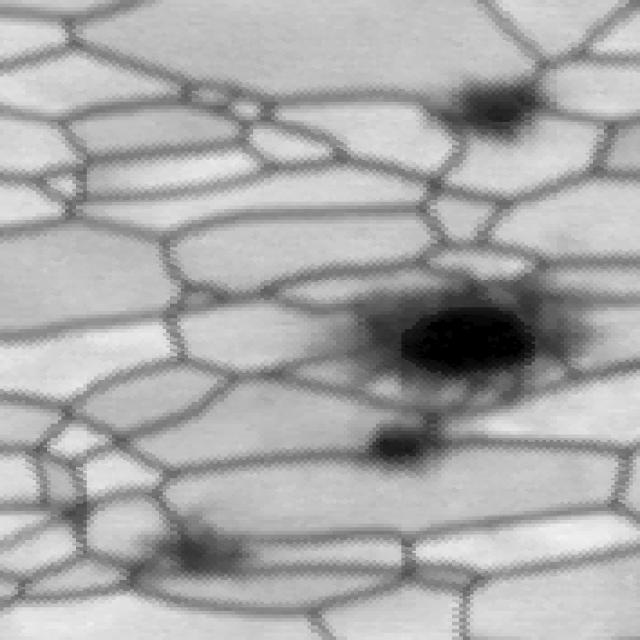good_void: (269, 277, 637, 424), (127, 519, 280, 592), (326, 420, 492, 487), (437, 77, 578, 150)
